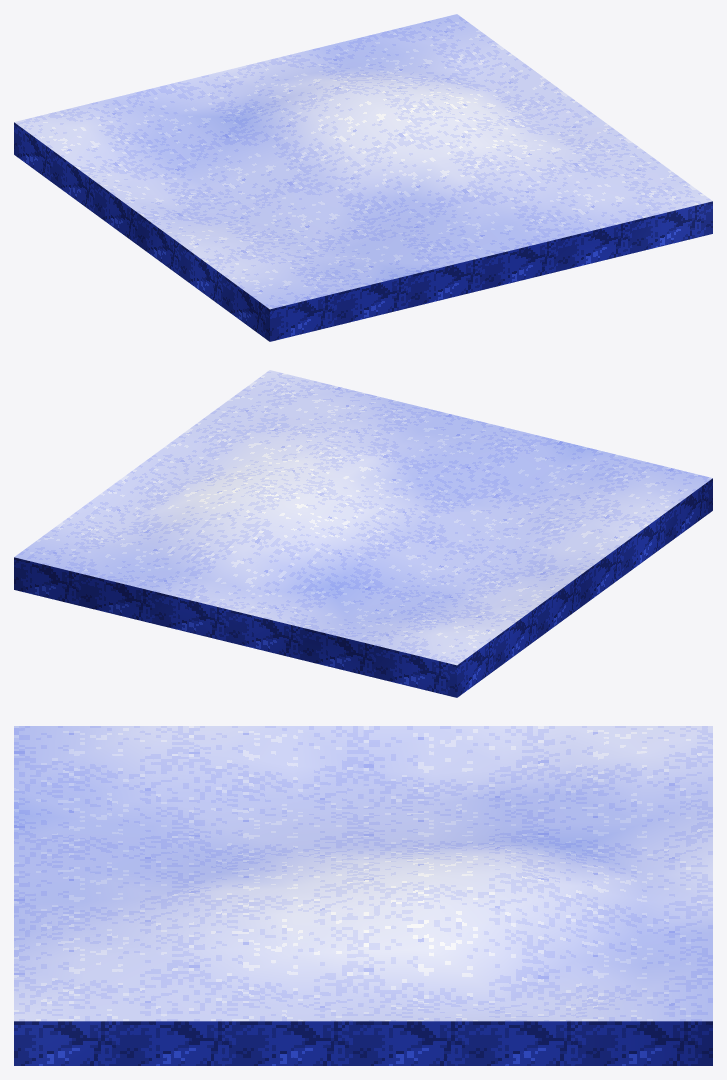
The model's file is terrain.patch.glb.
3 views of the same model, one above another, from view 1: azimuth 30°, elevation 25°; view 2: azimuth 150°, elevation 25°; view 3: azimuth 270°, elevation 25° (orthographic). The views are drawn at different scales.
Parts seen in each view (by area): view 1: kit_terrain; view 2: kit_terrain; view 3: kit_terrain.
Boxes of the visible parts, left/top/right/bottom form: kit_terrain: left=14, top=14, right=712, bottom=341; kit_terrain: left=14, top=370, right=712, bottom=697; kit_terrain: left=14, top=726, right=712, bottom=1065.
Size of the model in its own units: 12 by 1.4 by 12.
Materials: 2 (2 with a texture image).
